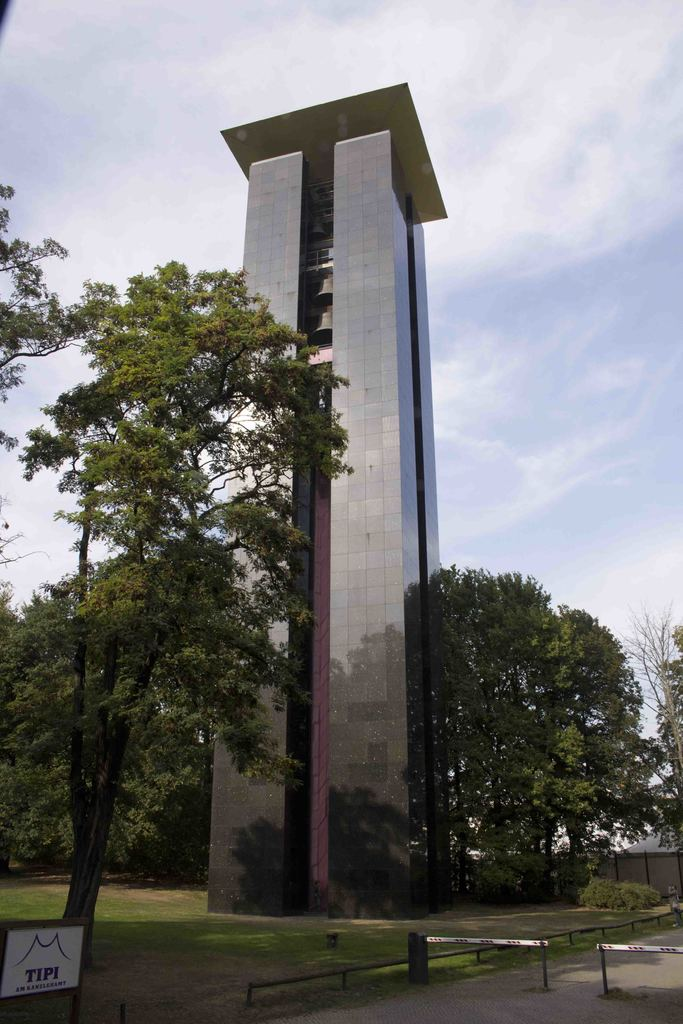Tree: (0, 203, 362, 970), (442, 560, 683, 897)
